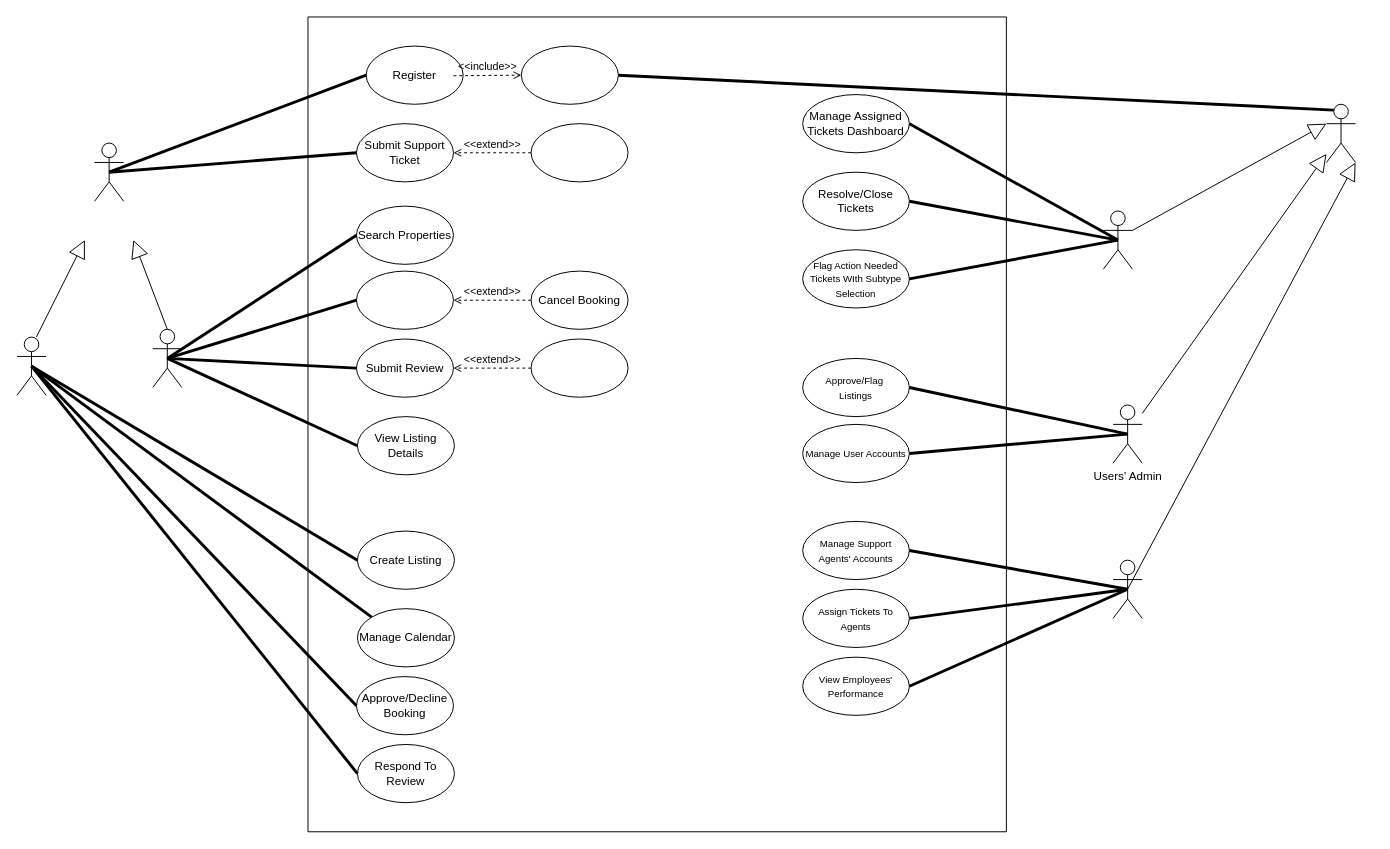
Image size: 1390x849. Some labels were removed from this diagram. The centre of each missing label's shape, as x and y in pixels:
"Create Booking" belongs at point (404, 299).
"Delete Review" belongs at point (579, 367).
"EMployees' Admin" belongs at point (1127, 588).
"Guest" belongs at point (167, 358).
"Host" belongs at point (31, 365).
"Login" belongs at point (569, 74).
"Support Agent" belongs at point (1117, 239).
"Track Ticket Status" belongs at point (579, 152).
"{Abstract} Employee" belongs at point (1341, 132).
"{Abstract} User" belongs at point (109, 171).
